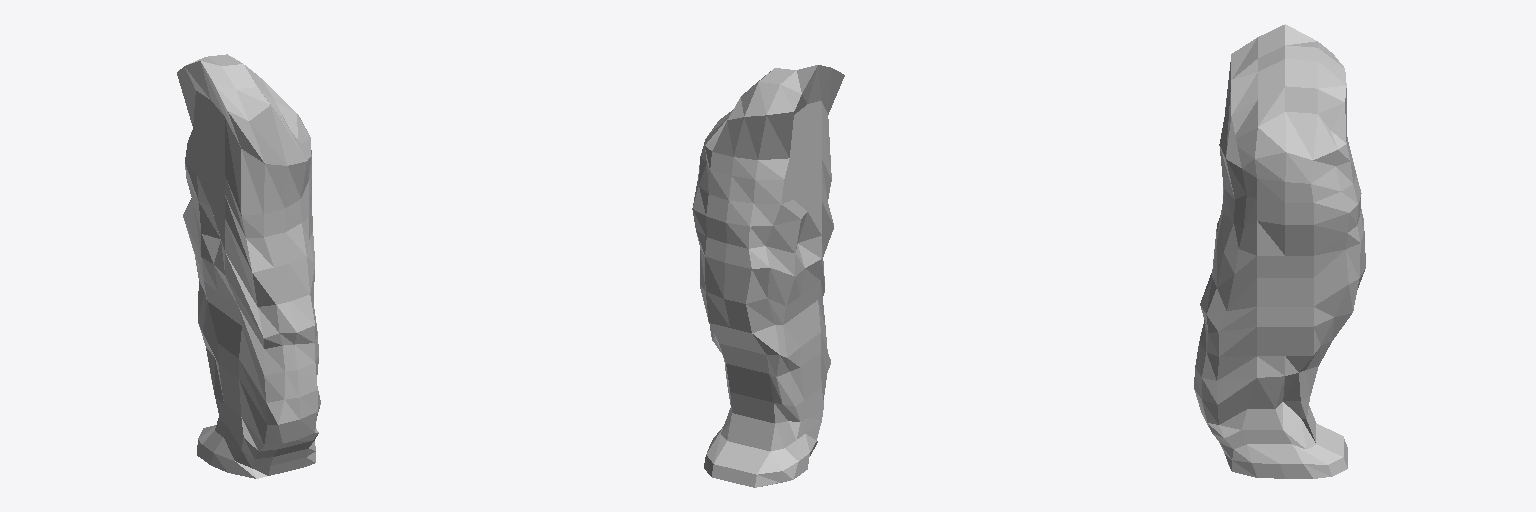
File: lfl.obj
The picture shows the model from 3 angles: view 1: azimuth 30°, elevation 25°; view 2: azimuth 150°, elevation 25°; view 3: azimuth 270°, elevation 25°; orthographic projection.
Parts seen in each view (by area): view 1: polar_lf:l_f_leg group1; view 2: polar_lf:l_f_leg group1; view 3: polar_lf:l_f_leg group1.
Part boxes in pixels (x1,y1,x2,y2): polar_lf:l_f_leg group1: (177, 54, 320, 478); polar_lf:l_f_leg group1: (692, 65, 844, 487); polar_lf:l_f_leg group1: (1194, 24, 1365, 478).
Bounding box in the file's own units: 216 × 805 × 303.